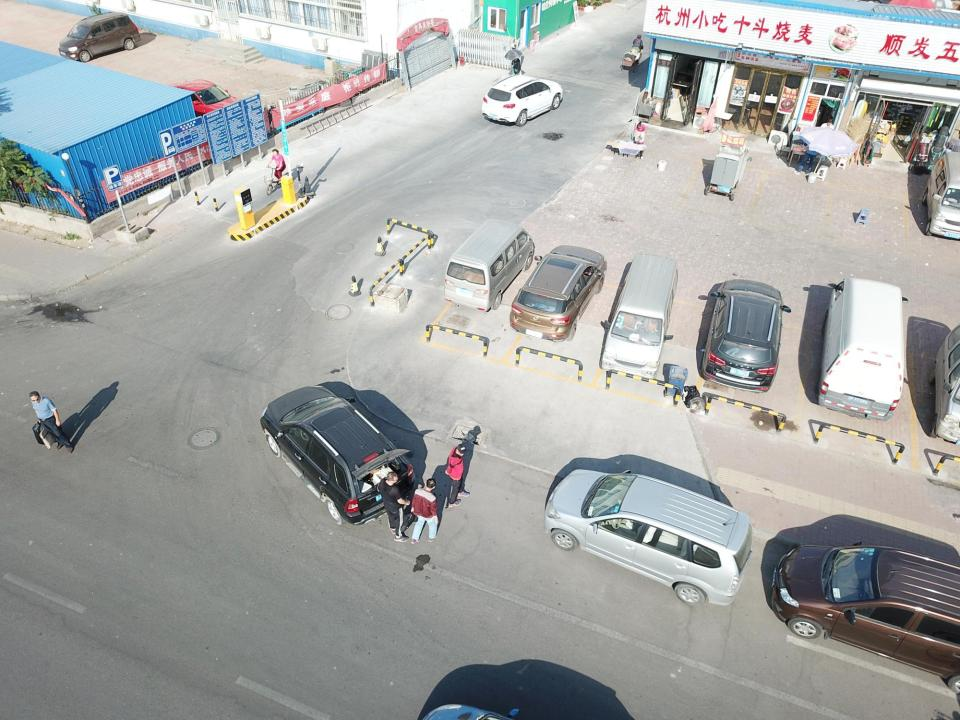car: (770, 541, 960, 689), (259, 385, 415, 526), (701, 279, 791, 393), (510, 245, 608, 342), (481, 75, 562, 127), (59, 11, 141, 61), (166, 80, 244, 122)
van: (544, 468, 753, 606), (818, 278, 909, 421), (600, 254, 678, 382), (444, 218, 534, 311), (923, 145, 960, 240)
